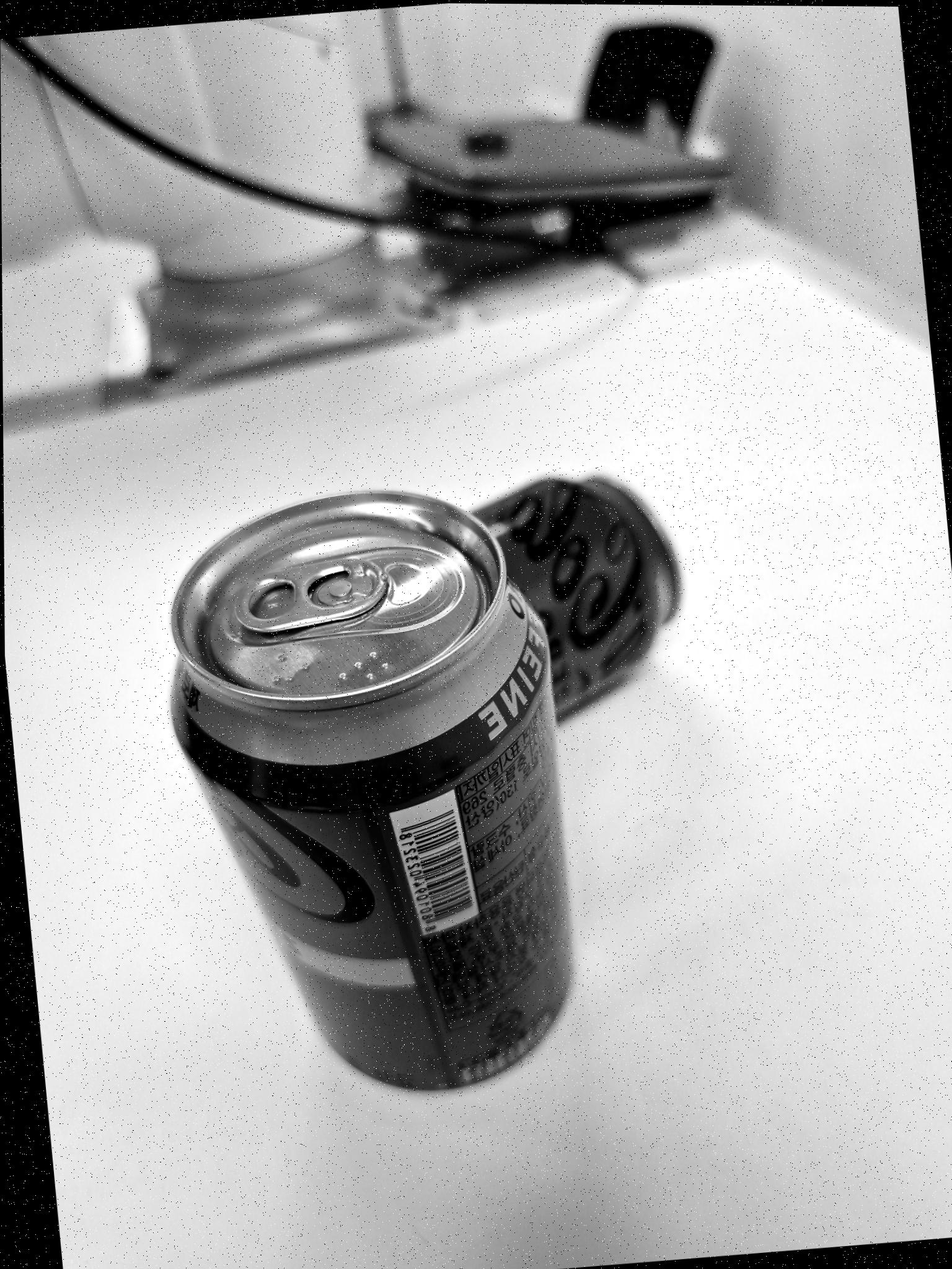can_coke_decaf: (167, 496, 587, 1099)
can_coke_zero: (470, 470, 679, 710)
